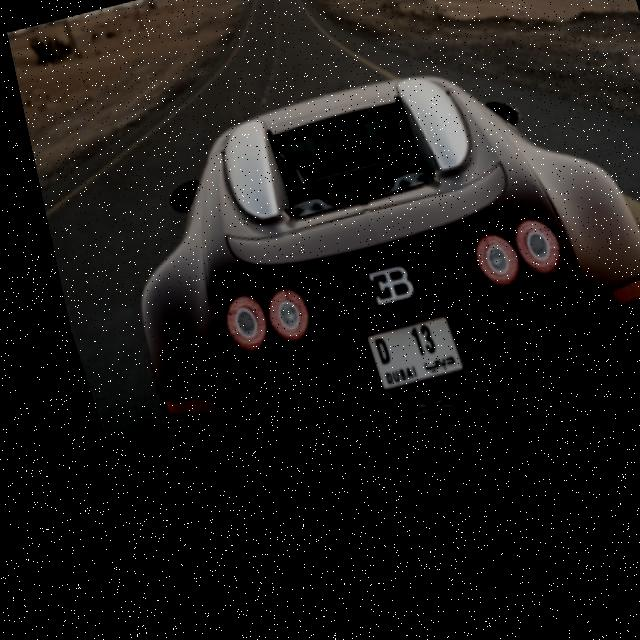license_plate: (346, 323, 448, 399)
